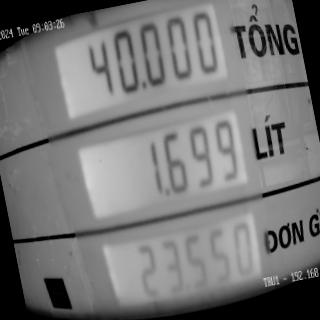screen: (45, 0, 276, 320)
